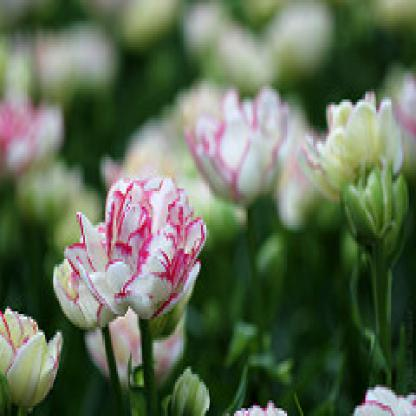TULIP: (25, 106, 400, 394)
